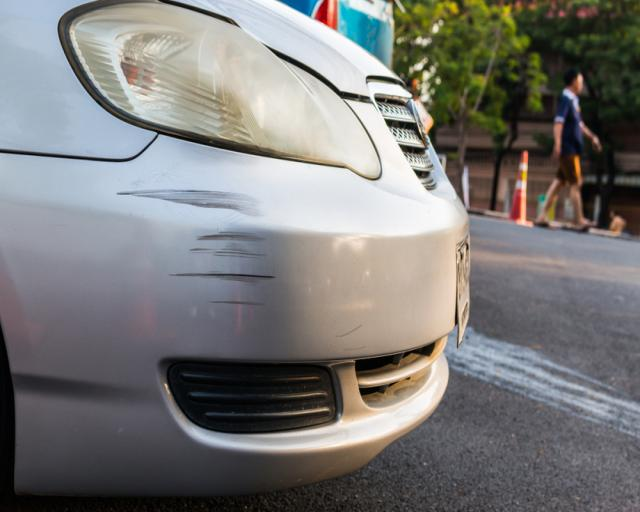scratch: (114, 184, 277, 319)
